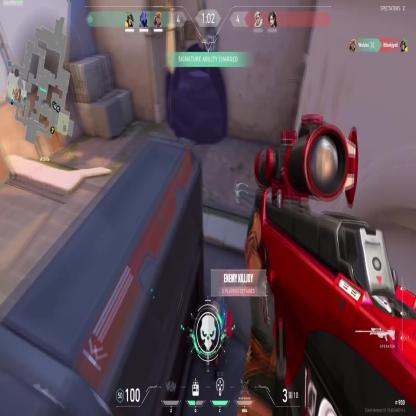enemy: (202, 292, 233, 387)
enemy_head: (210, 298, 221, 321)
